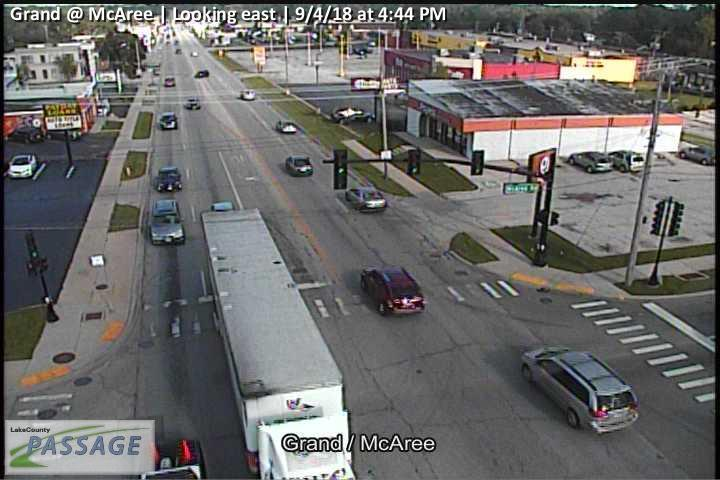SUV: (519, 344, 641, 434)
Sedan: (360, 266, 426, 315), (150, 198, 186, 246), (568, 151, 616, 174), (344, 187, 387, 211), (608, 149, 650, 173), (330, 106, 375, 127), (678, 147, 717, 167), (8, 153, 38, 178), (157, 166, 182, 193), (284, 155, 313, 176), (159, 111, 179, 131), (275, 118, 296, 132)
Truck: (198, 207, 355, 480)
